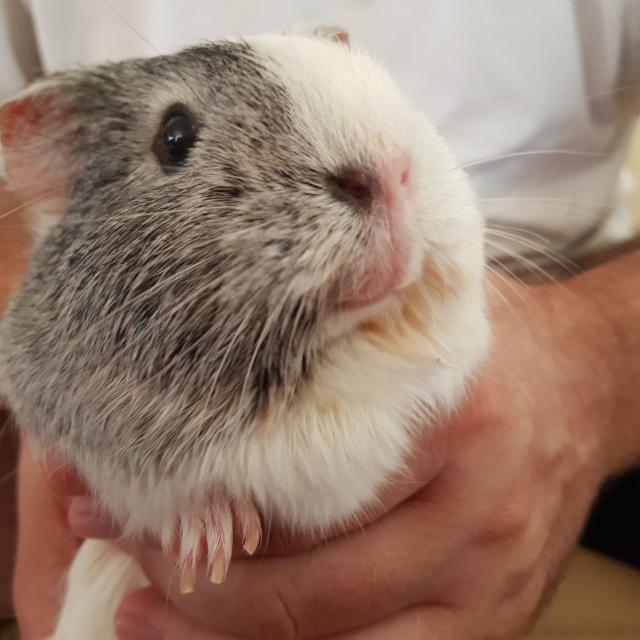guinea pig: (1, 30, 500, 598)
